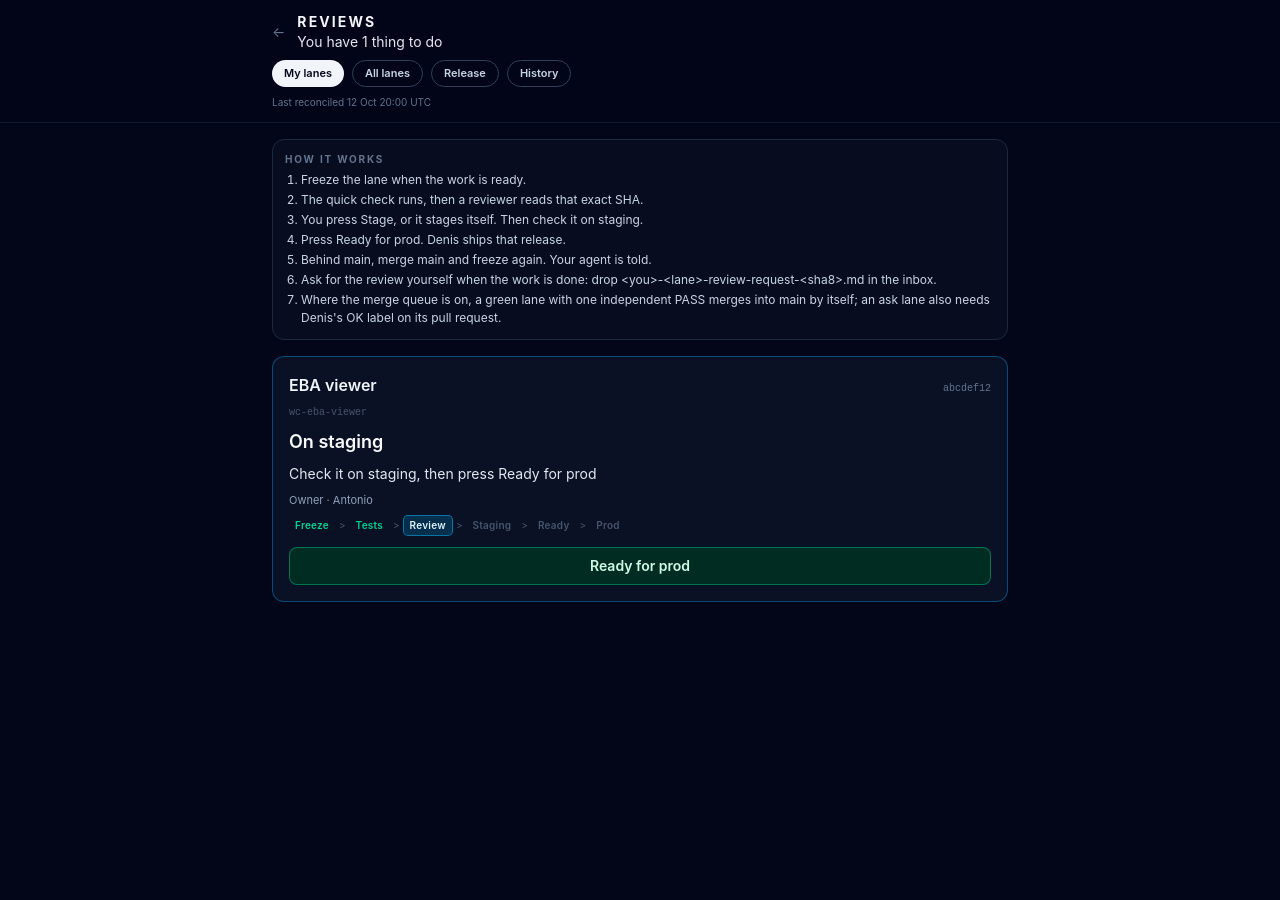
ReviewQueue › defaults to My lanes, counts what you have to do, and hides the other developer
expect the text with test id "things-to-do" reads "You have 1 thing to do": met, box [297,32,442,52]
expect the heading "EBA viewer" is shown: met, box [289,372,377,396]
Click the button with test id "scope-toggle" at (388, 73), box [352,60,423,86]
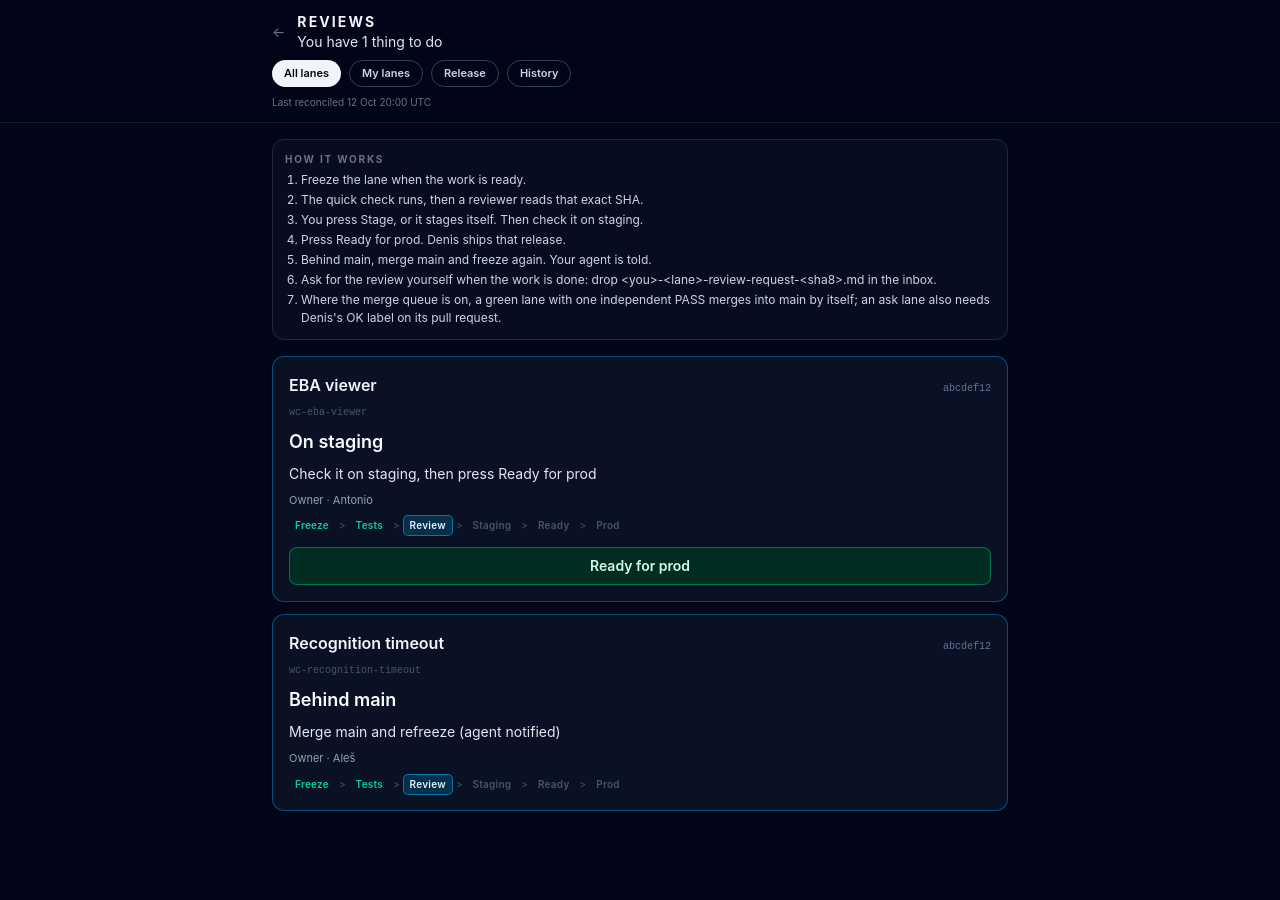
expect the heading "Recognition timeout" is shown: met, box [289,631,444,655]
